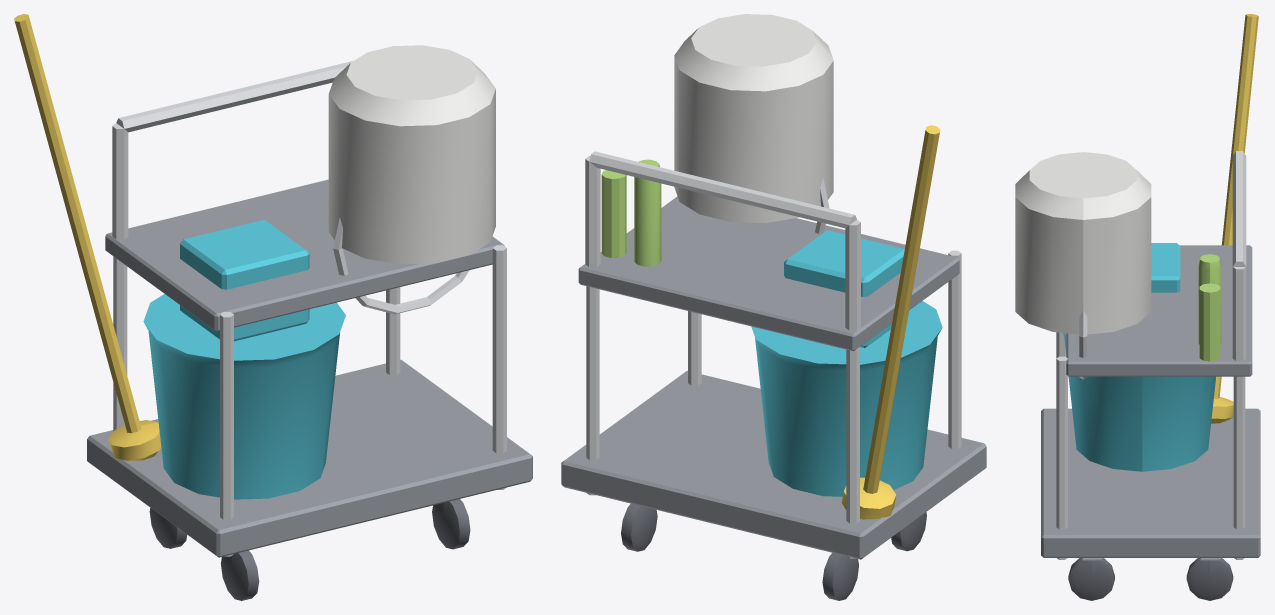
File: laser-tag-arena-and-activity-centre-cleaning-trolley-47dea92b__34510.glb
3 views of the same model, side by side, from view 1: azimuth 30°, elevation 25°; view 2: azimuth 150°, elevation 25°; view 3: azimuth 270°, elevation 25° (orthographic). The views are drawn at different scales.
Visible parts, largest first — view 1: cleaning-trolley, wheel; view 2: cleaning-trolley, wheel; view 3: cleaning-trolley, wheel.
Boxes of the visible parts, <box> form: cleaning-trolley: <box>14,14,532,557</box>; wheel: <box>149,499,470,600</box>; cleaning-trolley: <box>561,14,986,559</box>; wheel: <box>621,503,926,600</box>; cleaning-trolley: <box>1015,14,1260,560</box>; wheel: <box>1068,558,1233,600</box>.
Size of the model in its own units: 0.8927 by 1.17 by 0.5809.
